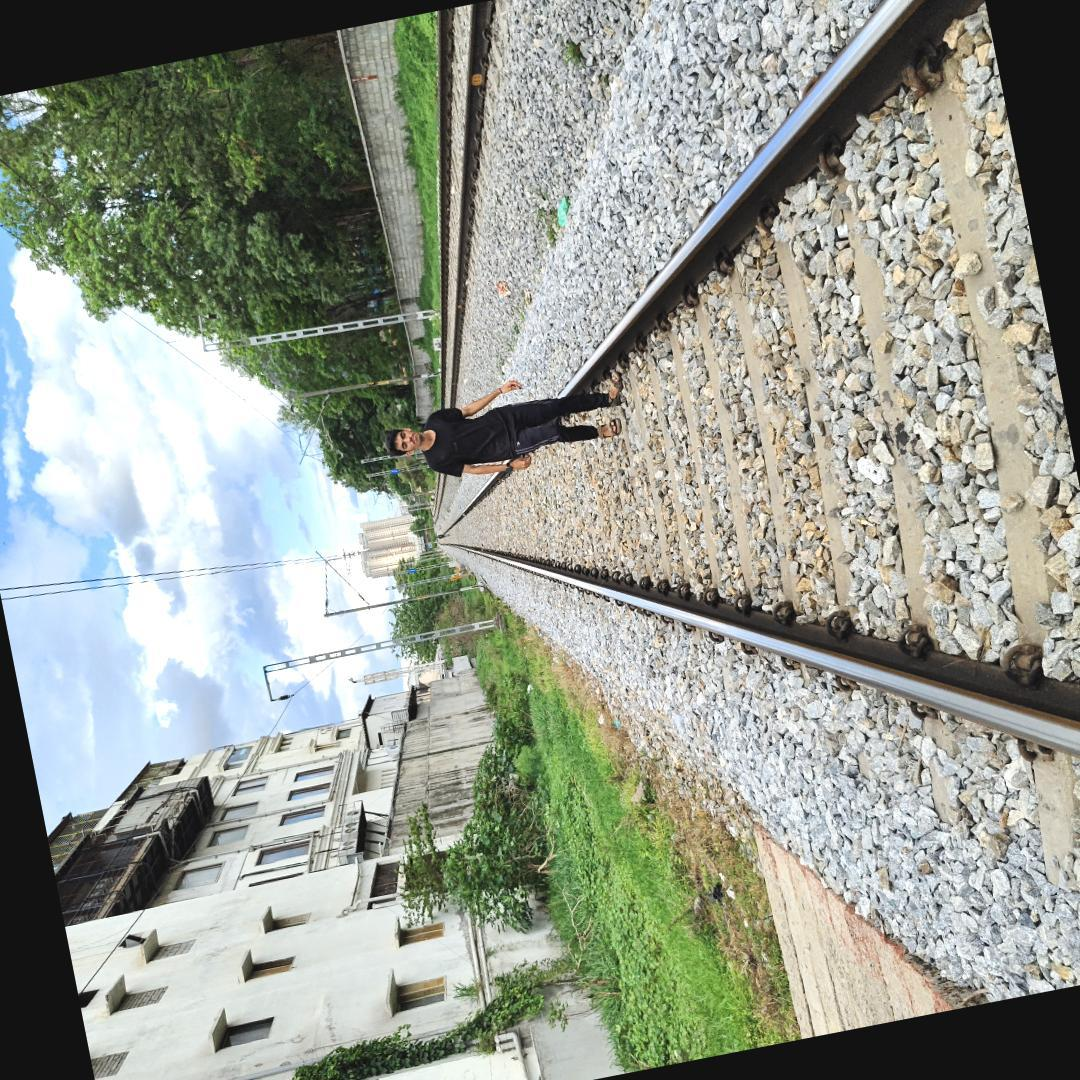standing: (366, 352, 654, 508)
